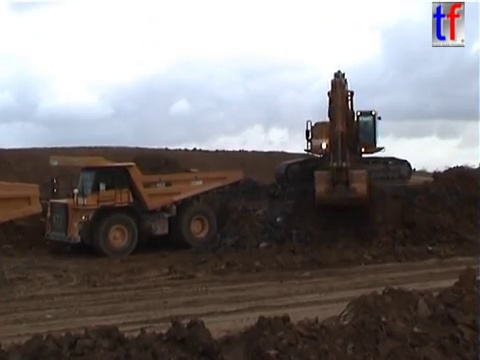excavator: (272, 67, 414, 211)
truck: (44, 153, 245, 259), (1, 177, 45, 226)
